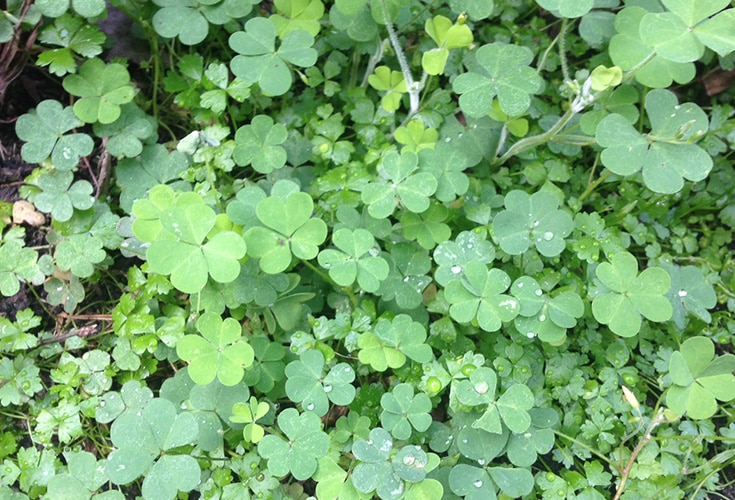oxalis: (50, 49, 717, 499)
